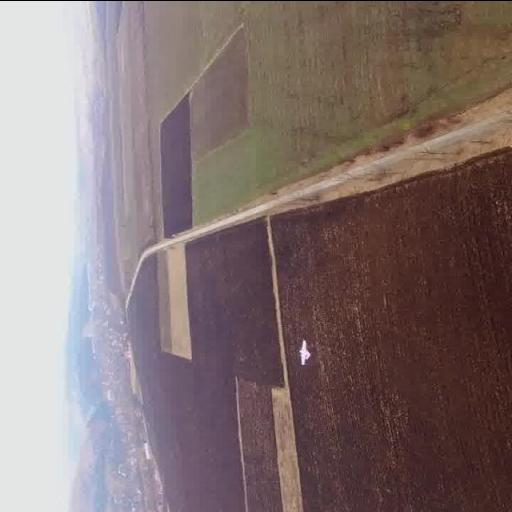uav: (284, 338, 322, 367)
